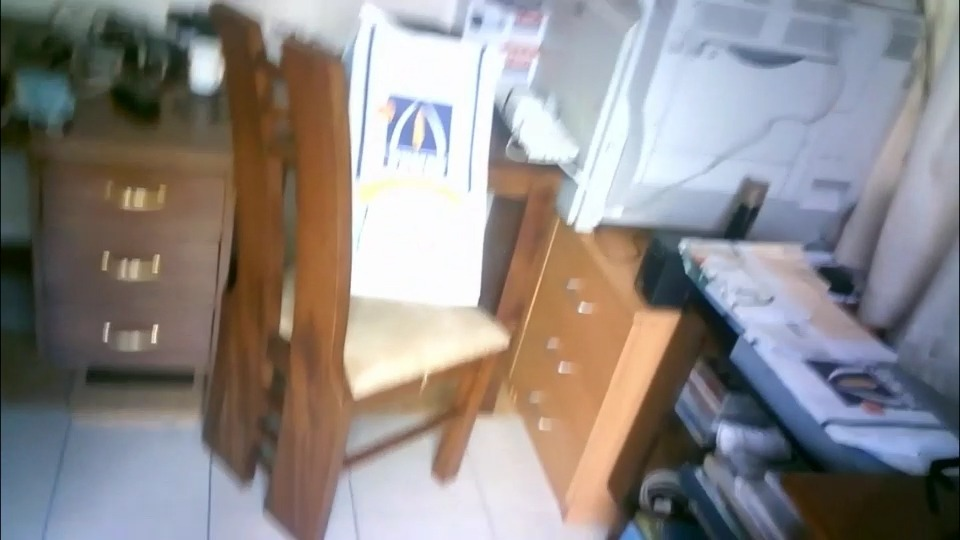wheat_flour_blue_label: (347, 14, 489, 302)
